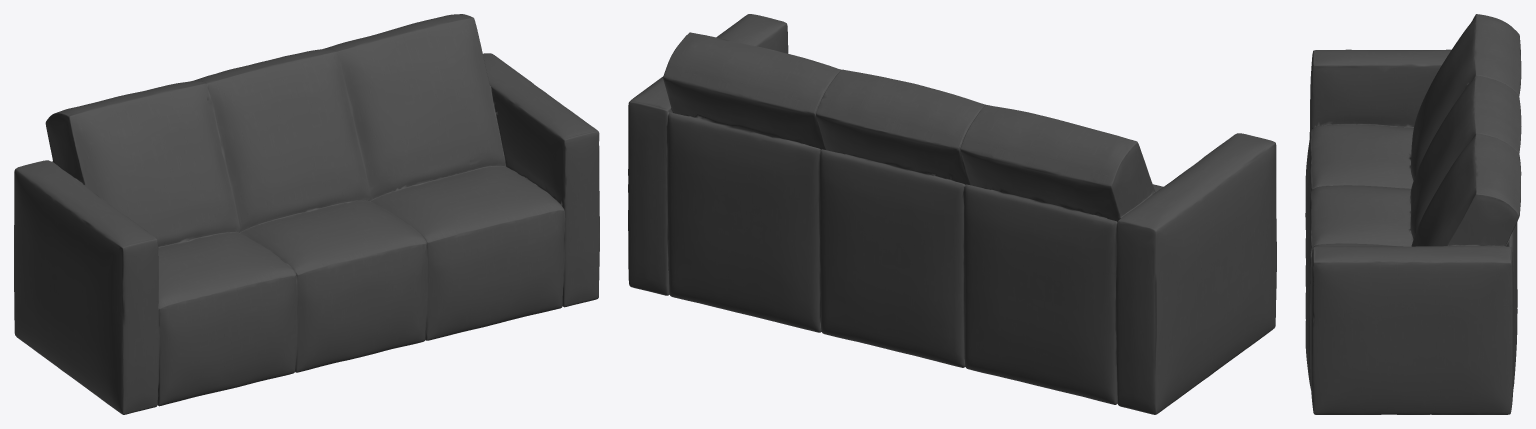
3 renders of one model, left to right at view 1: azimuth 30°, elevation 25°; view 2: azimuth 150°, elevation 25°; view 3: azimuth 270°, elevation 25°, orthographic. The views are drawn at different scales.
Visible parts, largest first — view 1: tripo_node_67029872-ee2f-49e4-b815-944b334b2c0a; view 2: tripo_node_67029872-ee2f-49e4-b815-944b334b2c0a; view 3: tripo_node_67029872-ee2f-49e4-b815-944b334b2c0a.
Boxes of the visible parts, x1,y1,x2,y2 form: tripo_node_67029872-ee2f-49e4-b815-944b334b2c0a: [14, 14, 599, 414]; tripo_node_67029872-ee2f-49e4-b815-944b334b2c0a: [628, 14, 1276, 414]; tripo_node_67029872-ee2f-49e4-b815-944b334b2c0a: [1305, 14, 1521, 414].
Size of the model in its own units: 1.9 by 0.85 by 0.8.
1 material, 1 textured.
